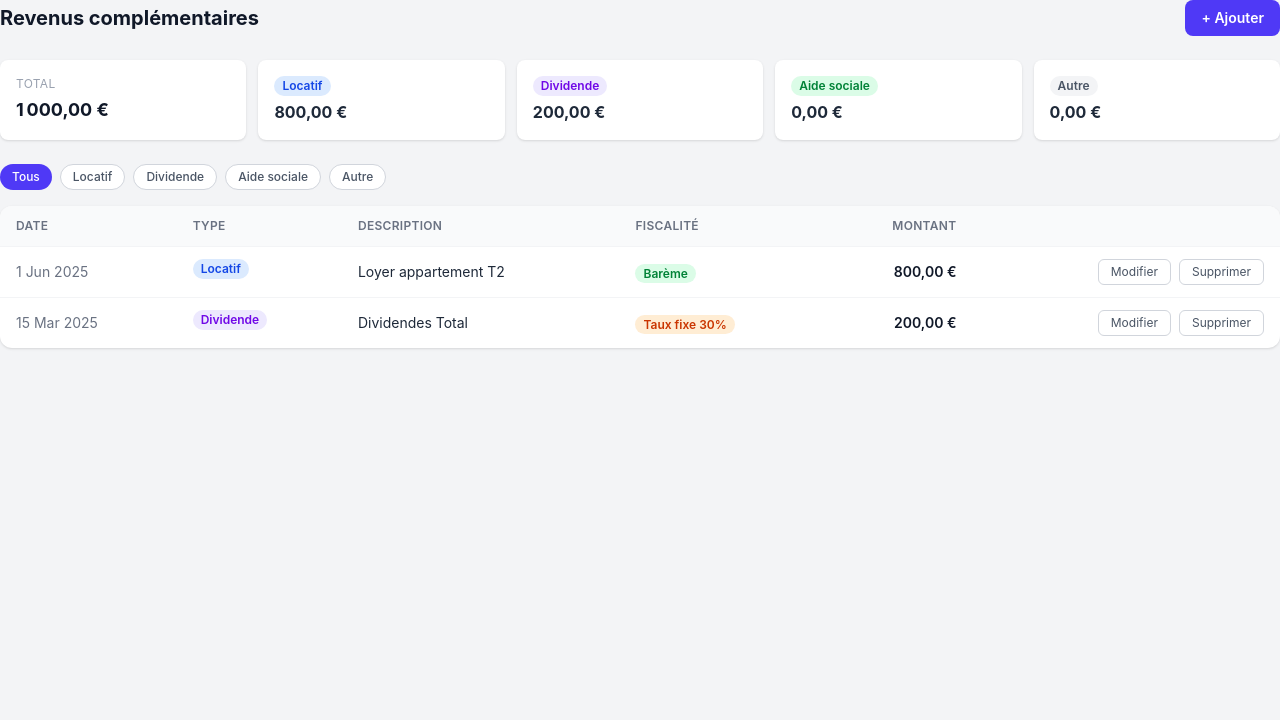
it: OtherIncomePage — pattern CRUD › supprime un revenu après confirmation dans la modale
Click the button "Supprimer" in the row of "1 Jun 2025" at coordinates (1221, 272), box [1179, 259, 1264, 285]
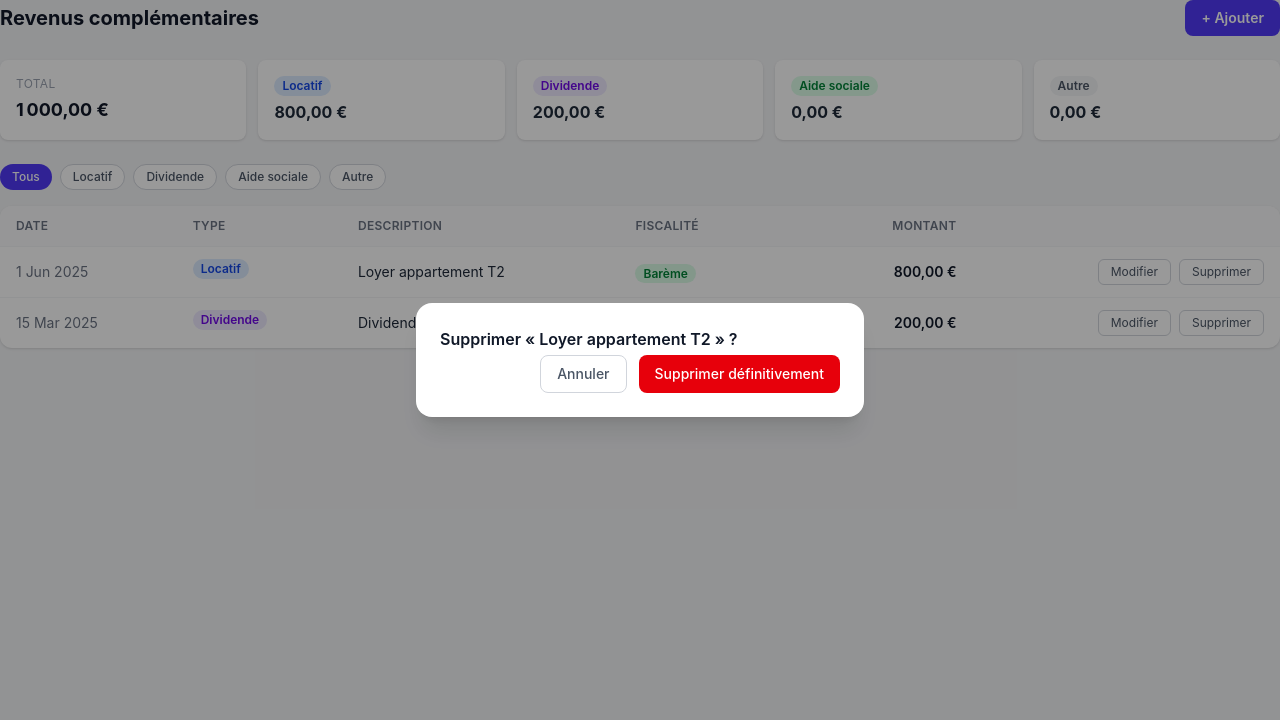
Check: the button "Supprimer définitivement" is shown
Click the button "Supprimer définitivement" at coordinates (739, 374), box [638, 355, 840, 393]
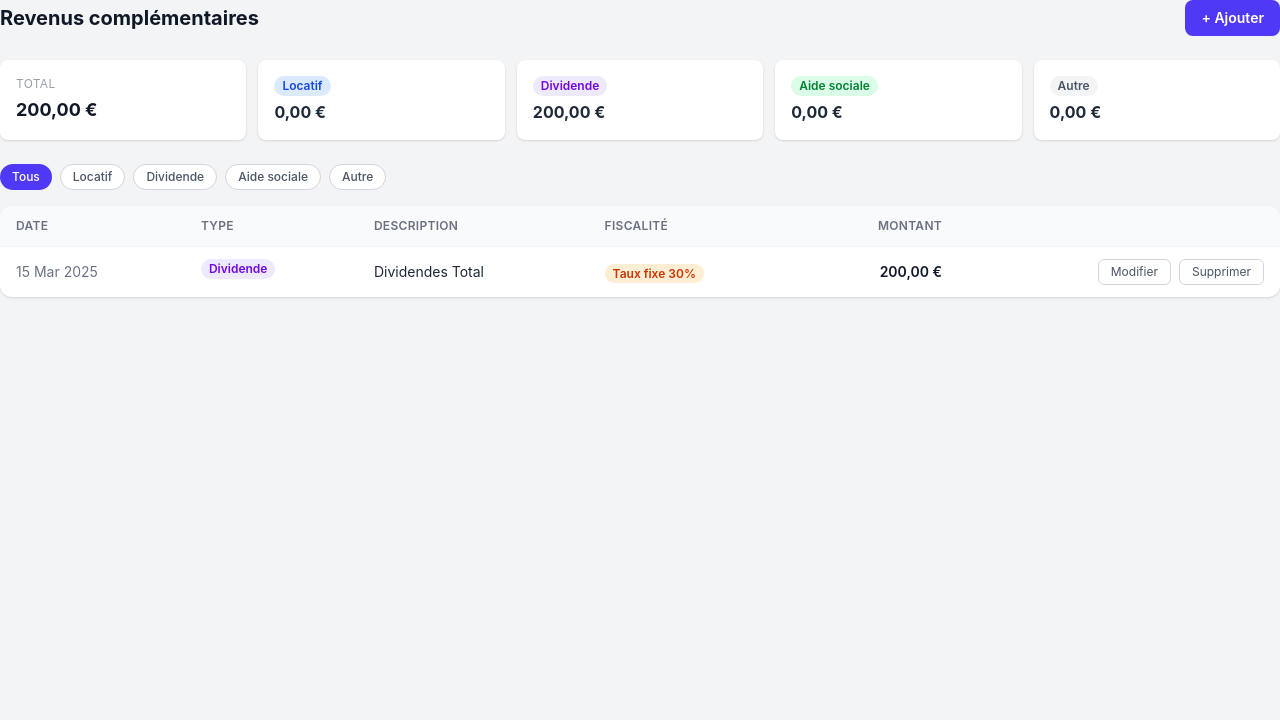
Check: the text "Loyer appartement T2" is gone
